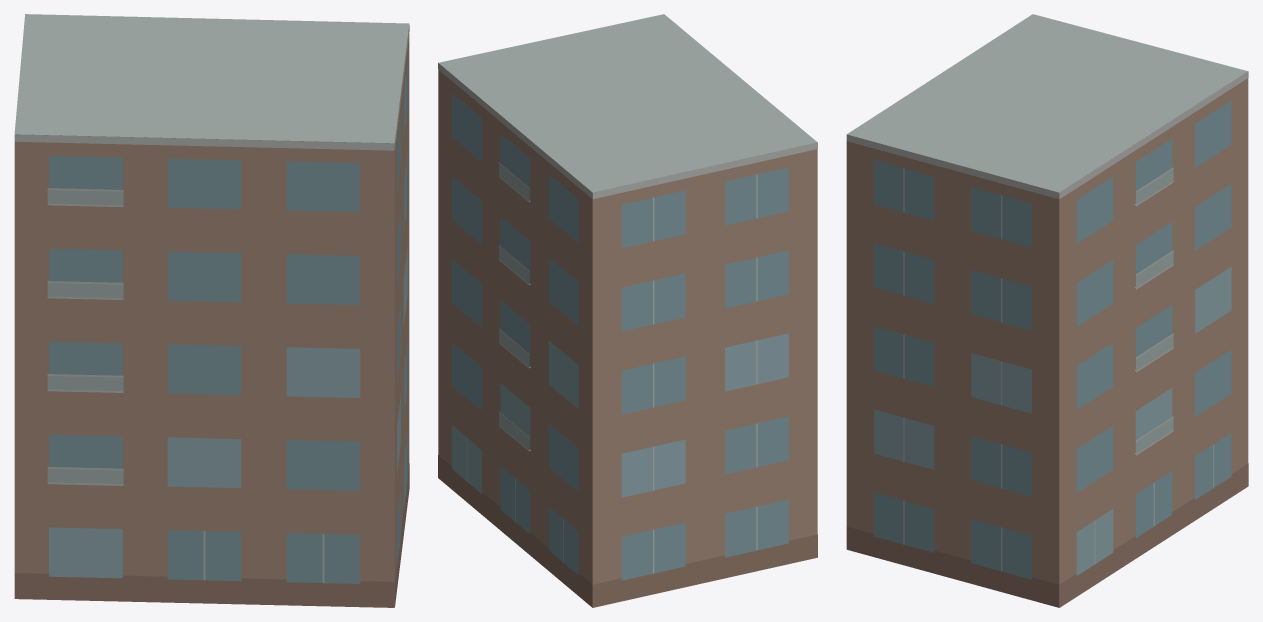
Rendered from survey-upis-32874351.glb.
3 renders of one model, left to right at view 1: azimuth 30°, elevation 25°; view 2: azimuth 150°, elevation 25°; view 3: azimuth 270°, elevation 25°, orthographic. The views are drawn at different scales.
Parts seen in each view (by area): view 1: survey-upis-32874351.tmp; view 2: survey-upis-32874351.tmp; view 3: survey-upis-32874351.tmp.
Part boxes in pixels (left/top/right/bottom): survey-upis-32874351.tmp: left=14, top=14, right=409, bottom=607; survey-upis-32874351.tmp: left=438, top=14, right=817, bottom=607; survey-upis-32874351.tmp: left=846, top=14, right=1248, bottom=607.
Bounding box in the file's own units: 14.09 × 15.25 × 13.38.
